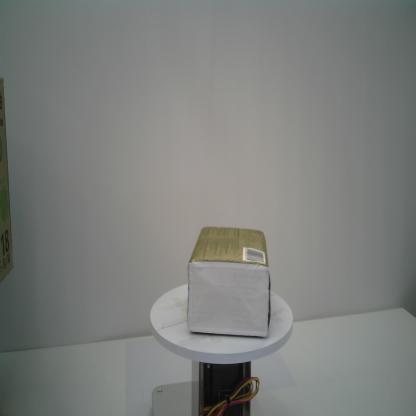Tissue: (186, 226, 272, 338)
